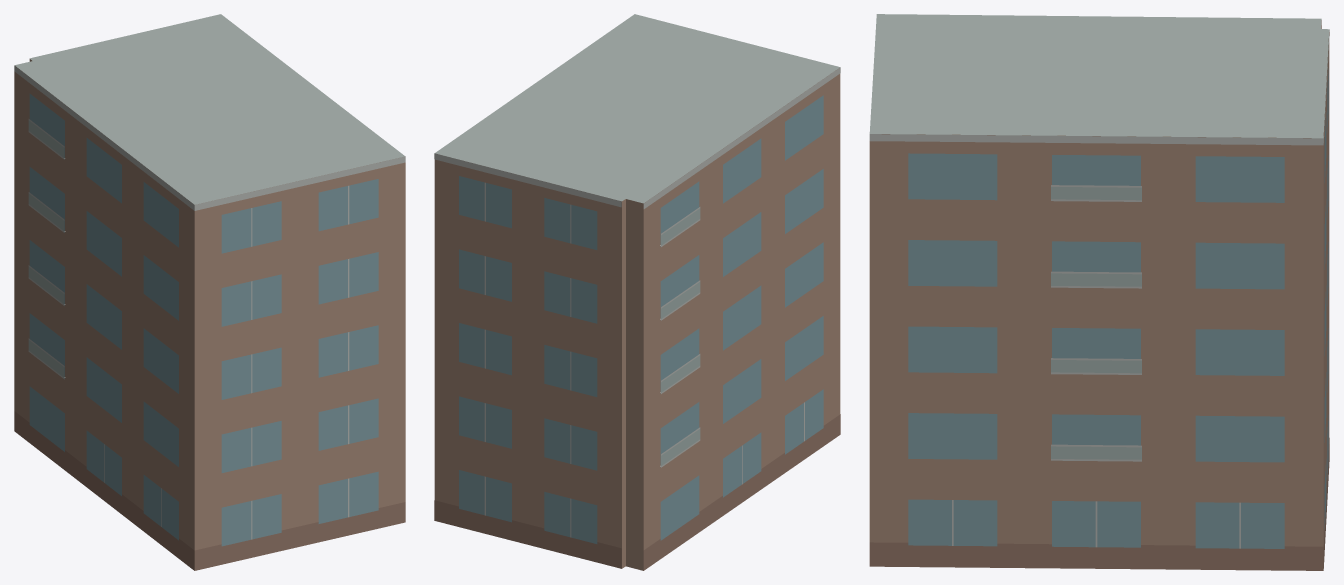
File: survey-upis-32993325.glb
3 views of the same model, side by side, from view 1: azimuth 30°, elevation 25°; view 2: azimuth 150°, elevation 25°; view 3: azimuth 270°, elevation 25° (orthographic). The views are drawn at different scales.
Parts seen in each view (by area): view 1: survey-upis-32993325.tmp; view 2: survey-upis-32993325.tmp; view 3: survey-upis-32993325.tmp.
Part boxes in pixels (box(x1,y1,x2,y2)): survey-upis-32993325.tmp: box(14, 14, 405, 570); survey-upis-32993325.tmp: box(434, 14, 840, 570); survey-upis-32993325.tmp: box(869, 14, 1329, 570).
Bounding box in the file's own units: 9 × 14.6 × 14.07.
